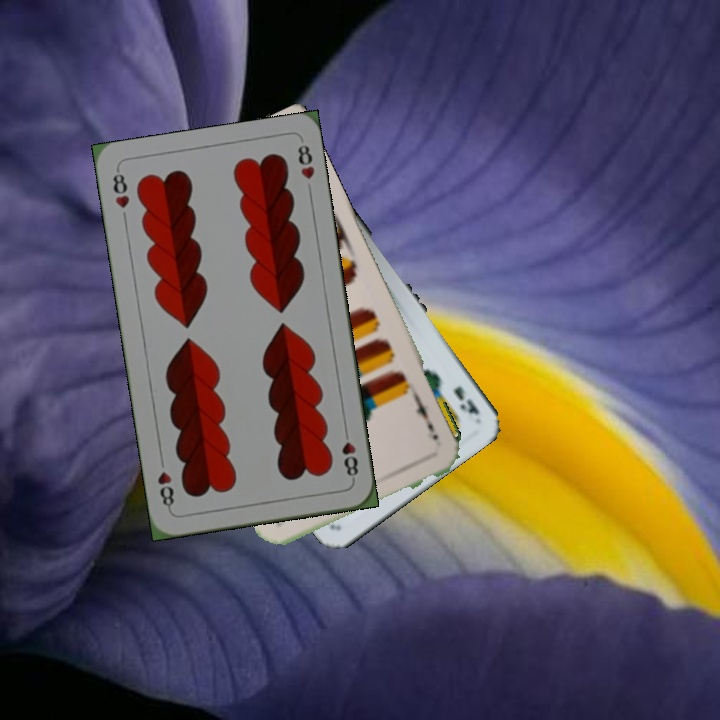E7: (411, 393, 441, 443)
EK: (449, 382, 482, 418)
H8: (338, 424, 361, 483), (109, 166, 132, 211)
